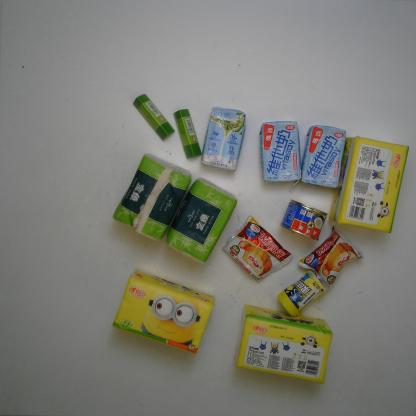Canned Food: (280, 194, 330, 241)
Dessert: (218, 211, 294, 283), (298, 223, 368, 289)
Gum: (274, 269, 332, 320)
Milk: (198, 104, 246, 172), (301, 122, 349, 190), (258, 119, 302, 182)
Stationery: (128, 91, 180, 141), (172, 106, 206, 162)
Tissue: (108, 268, 220, 359), (234, 303, 337, 386), (334, 135, 412, 236), (109, 151, 193, 242), (164, 177, 242, 263)
